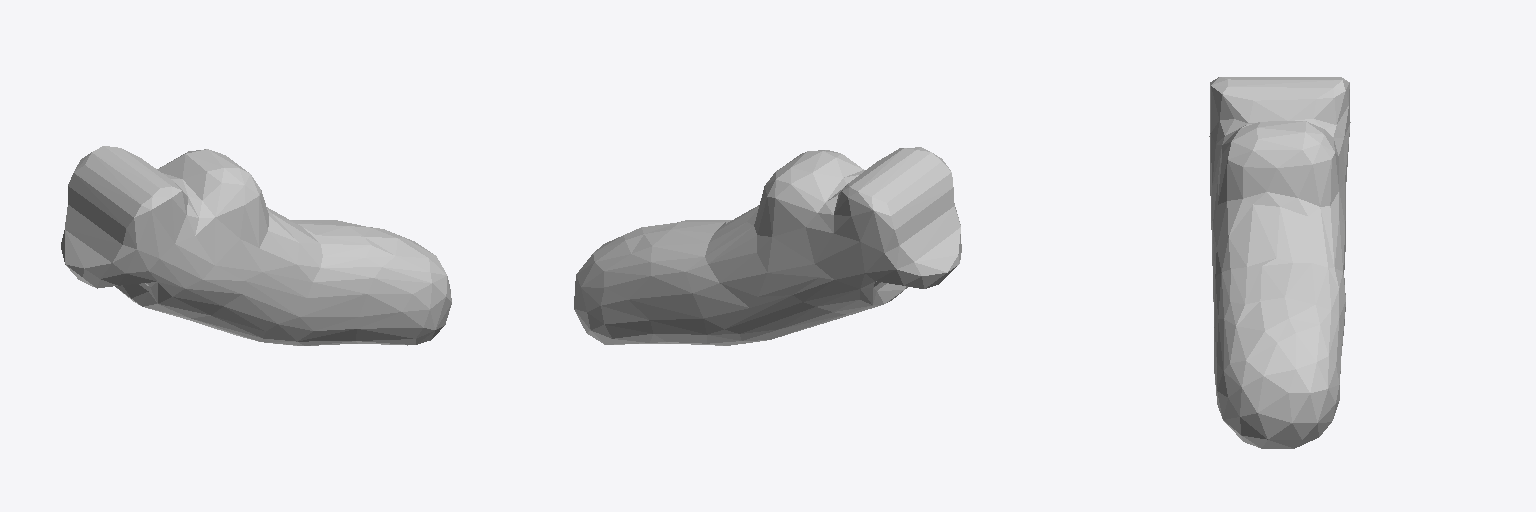
The model's file is idx-F2.obj.
3 views of the same model, side by side, from view 1: azimuth 30°, elevation 25°; view 2: azimuth 150°, elevation 25°; view 3: azimuth 270°, elevation 25° (orthographic).
Visible parts, largest first — view 1: off; view 2: off; view 3: off.
Part boxes in pixels (x1,y1,x2,y2): off: (61,146,451,345); off: (574,147,961,345); off: (1209,77,1350,448).
Size of the model in its own units: 0.0439 by 0.0265 by 0.0145.